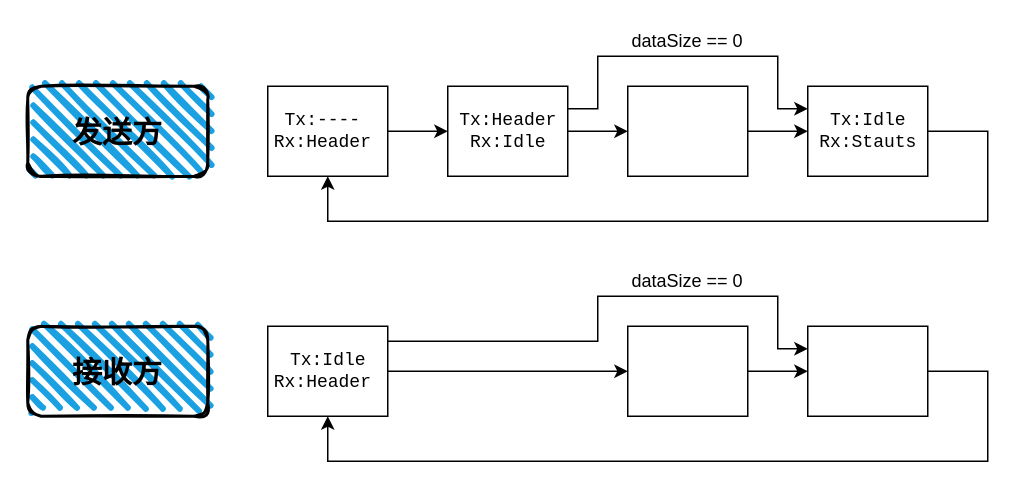
Some shapes in this 1026 by 500 pixel diagram are drawn without their labels. Each missing label, with the centre of its shape:
"Tx:---- Rx:Data" belongs at (x=687, y=370).
"Tx:Data Rx:----" belongs at (x=687, y=130).
"Tx:Status Rx:Idle" belongs at (x=867, y=370).
